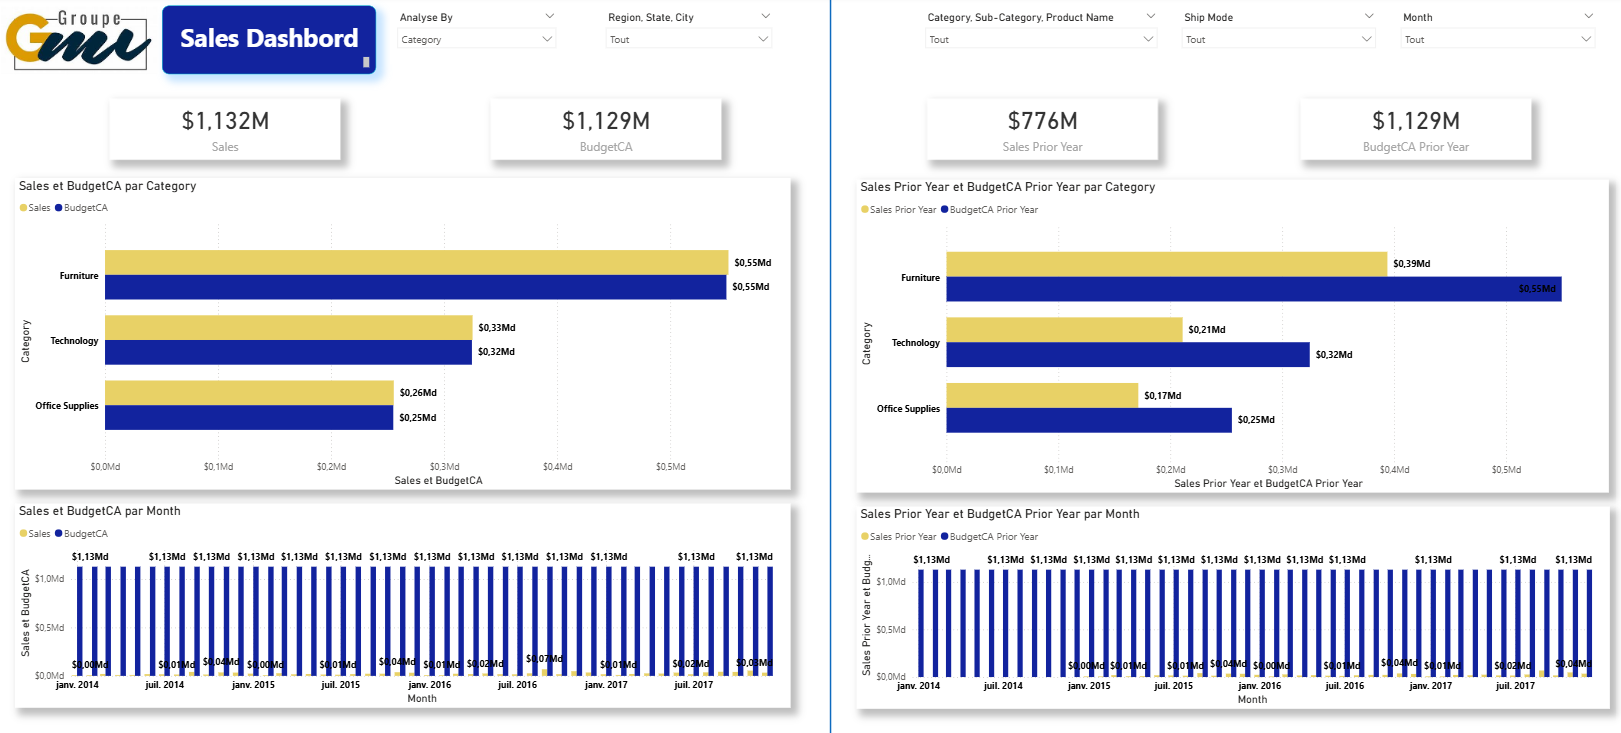

This screenshot's page, from the dashboard's own definition file:
{"tool":"powerbi","page":{"name":"Sales VS Budget","canvas":[2200,1000],"ordinal":2},"visuals":[{"type":"shape","box":[995,0,257.5,1000],"z":0},{"type":"clusteredBarChart","fields":{"Category":["Dim_product.Category"],"Y":["Mesure.Sales","Mesure.BudgetCA"]},"box":[25,247.5,1045,420],"z":1000},{"type":"clusteredBarChart","fields":{"Category":["Dim_product.Category"],"Y":["Mesure.Sales Prior Year","Mesure.BudgetCA Prior Year"]},"box":[1158,248,1014,422],"z":2000},{"type":"clusteredColumnChart","fields":{"Y":["Mesure.Sales","Mesure.BudgetCA"],"Category":["Calendar.Month"]},"box":[25,685,1045,275],"z":3000},{"type":"clusteredColumnChart","fields":{"Y":["Mesure.Sales Prior Year","Mesure.BudgetCA Prior Year"],"Category":["Calendar.Month"]},"box":[1157.5,690,1015,272.5],"z":4000},{"type":"textbox","title":" ","box":[221.4,14.3,288.6,92.9],"z":5000},{"type":"image","box":[0,0,221.4,121.4],"z":6000},{"type":"slicer","fields":{"Values":["Dim_location.Region","Dim_location.State","Dim_location.City"]},"box":[810,15.7,244.3,77.1],"z":7000},{"type":"slicer","fields":{"Values":["Analyze By :.Analyse By"]},"box":[530,15.7,234.3,77.1],"z":8000},{"type":"advanceCardE03760C5AB684758B56AA29F9E6C257B","fields":{"mainMeasure":["Mesure.Sales"]},"box":[151.4,140,311.4,82.9],"z":9000},{"type":"advanceCardE03760C5AB684758B56AA29F9E6C257B","fields":{"mainMeasure":["Mesure.BudgetCA"]},"box":[664.3,140,311,82.9],"z":10000},{"type":"advanceCardE03760C5AB684758B56AA29F9E6C257B","fields":{"mainMeasure":["Mesure.Sales Prior Year"]},"box":[1252.9,140,311.4,82.9],"z":11000},{"type":"advanceCardE03760C5AB684758B56AA29F9E6C257B","fields":{"mainMeasure":["Mesure.BudgetCA Prior Year"]},"box":[1757.1,140,311,82.9],"z":12000},{"type":"slicer","fields":{"Values":["Dim_product.Category","Dim_product.Sub-Category","Dim_product.Product Name"]},"box":[1241.4,15.7,332.9,77.1],"z":13000},{"type":"slicer","fields":{"Values":["data.Ship Mode"]},"box":[1587.1,15.7,281.4,77.1],"z":14000},{"type":"slicer","fields":{"Values":["Calendar.Month.Variation.Date Hierarchy.Month"]},"box":[1881.4,15.7,282,77.1],"z":15000},{"type":"actionButton","box":[0,0,208.3,121.7],"z":16000}]}

Visuals, with their boxes in screenshot pixels (x1, y1, x2, y2), scaled from the page's 2200x1000 canvas onto the 1621x733 screenshot:
shape: select_region(733, 0, 923, 732)
clusteredBarChart - Dim_product.Category x Mesure.Sales: select_region(18, 181, 788, 489)
clusteredBarChart - Dim_product.Category x Mesure.Sales Prior Year: select_region(853, 182, 1600, 491)
clusteredColumnChart - Mesure.Sales x Mesure.BudgetCA: select_region(18, 502, 788, 704)
clusteredColumnChart - Mesure.Sales Prior Year x Mesure.BudgetCA Prior Year: select_region(853, 506, 1601, 706)
" " textbox: select_region(163, 10, 376, 79)
image: select_region(0, 0, 163, 89)
slicer - Dim_location.Region x Dim_location.State: select_region(597, 12, 777, 68)
slicer - Analyze By :.Analyse By: select_region(391, 12, 563, 68)
advanceCardE03760C5AB684758B56AA29F9E6C257B - Mesure.Sales: select_region(112, 103, 341, 163)
advanceCardE03760C5AB684758B56AA29F9E6C257B - Mesure.BudgetCA: select_region(489, 103, 719, 163)
advanceCardE03760C5AB684758B56AA29F9E6C257B - Mesure.Sales Prior Year: select_region(923, 103, 1153, 163)
advanceCardE03760C5AB684758B56AA29F9E6C257B - Mesure.BudgetCA Prior Year: select_region(1295, 103, 1524, 163)
slicer - Dim_product.Category x Dim_product.Sub-Category: select_region(915, 12, 1160, 68)
slicer - data.Ship Mode: select_region(1169, 12, 1377, 68)
slicer - Calendar.Month.Variation.Date Hierarchy.Month: select_region(1386, 12, 1594, 68)
actionButton: select_region(0, 0, 153, 89)
